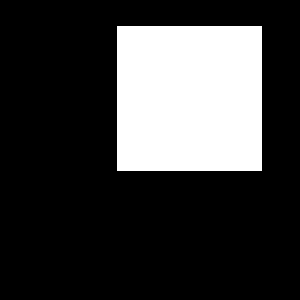circle: (117, 26, 262, 171)
